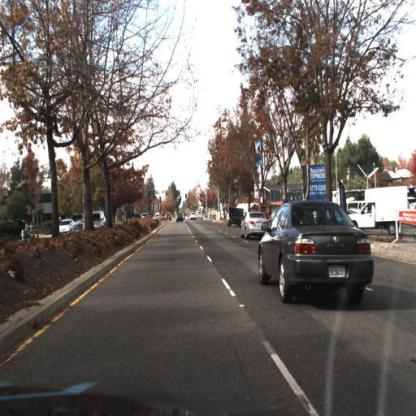car: (257, 197, 375, 308), (239, 208, 268, 239), (86, 206, 107, 233), (57, 214, 77, 238), (58, 217, 78, 235), (225, 208, 242, 227), (91, 208, 106, 229), (188, 210, 199, 226), (163, 211, 174, 225), (174, 212, 184, 225)
truck: (348, 184, 408, 233)
